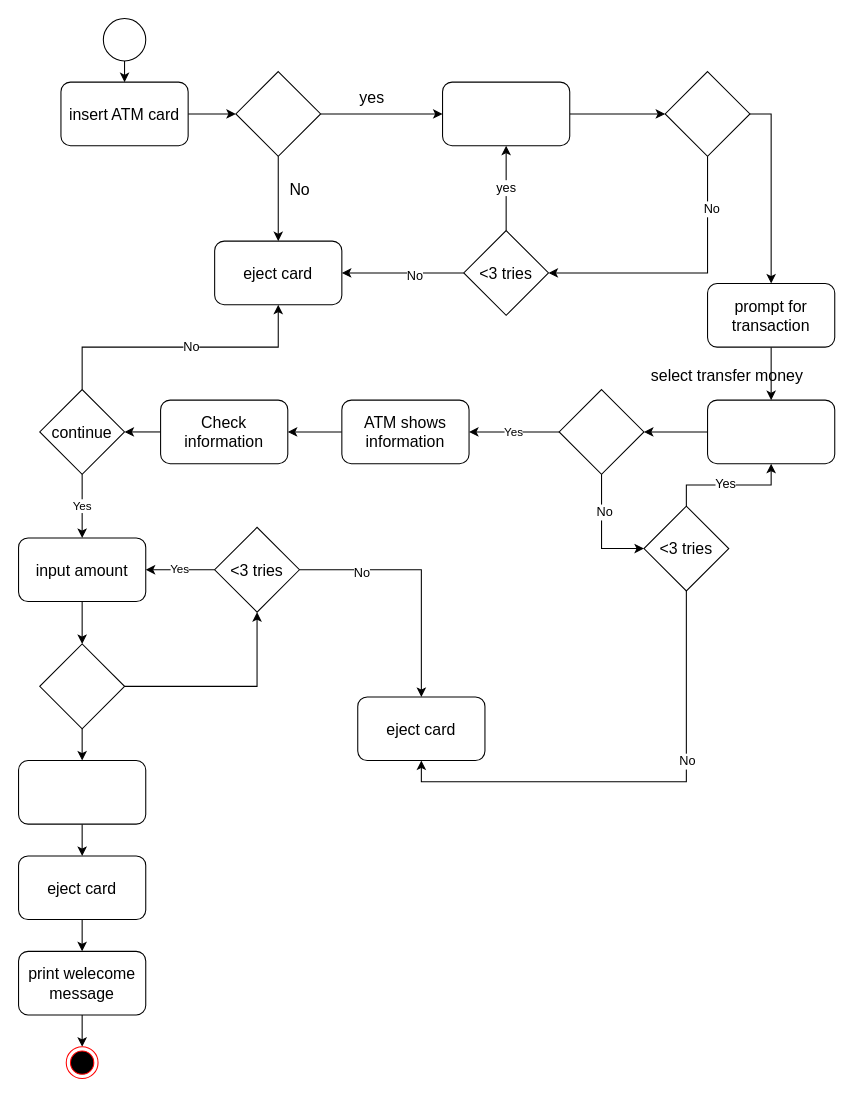
Some shapes in this 853 by 1097 pixel diagram are drawn without their labels. Here are the shapes that lost their labels. From the top down, the centre of each, then its label:
At point (278, 113): "valid card?".
At point (505, 113): "Prompt for PIN".
At point (707, 113): "PIN correct?".
At point (601, 431): "number valid".
At point (770, 431): "input another card number".
At point (82, 686): "enough".
At point (81, 791): "Print receipt".
